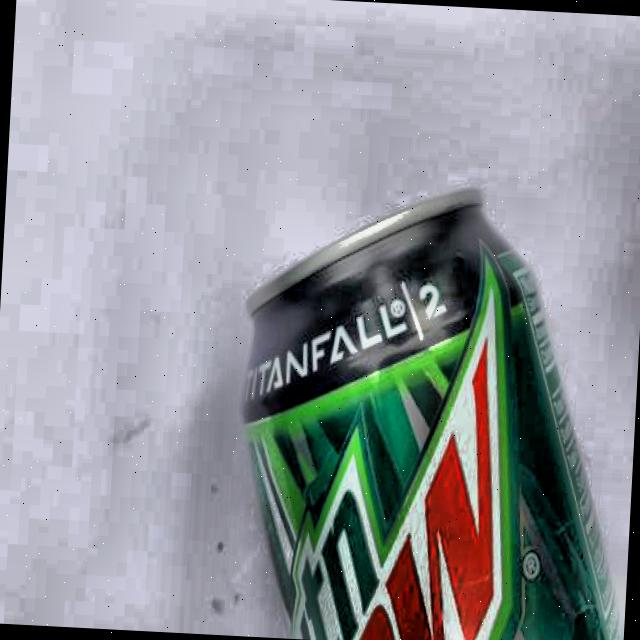metal: (226, 178, 640, 640)
